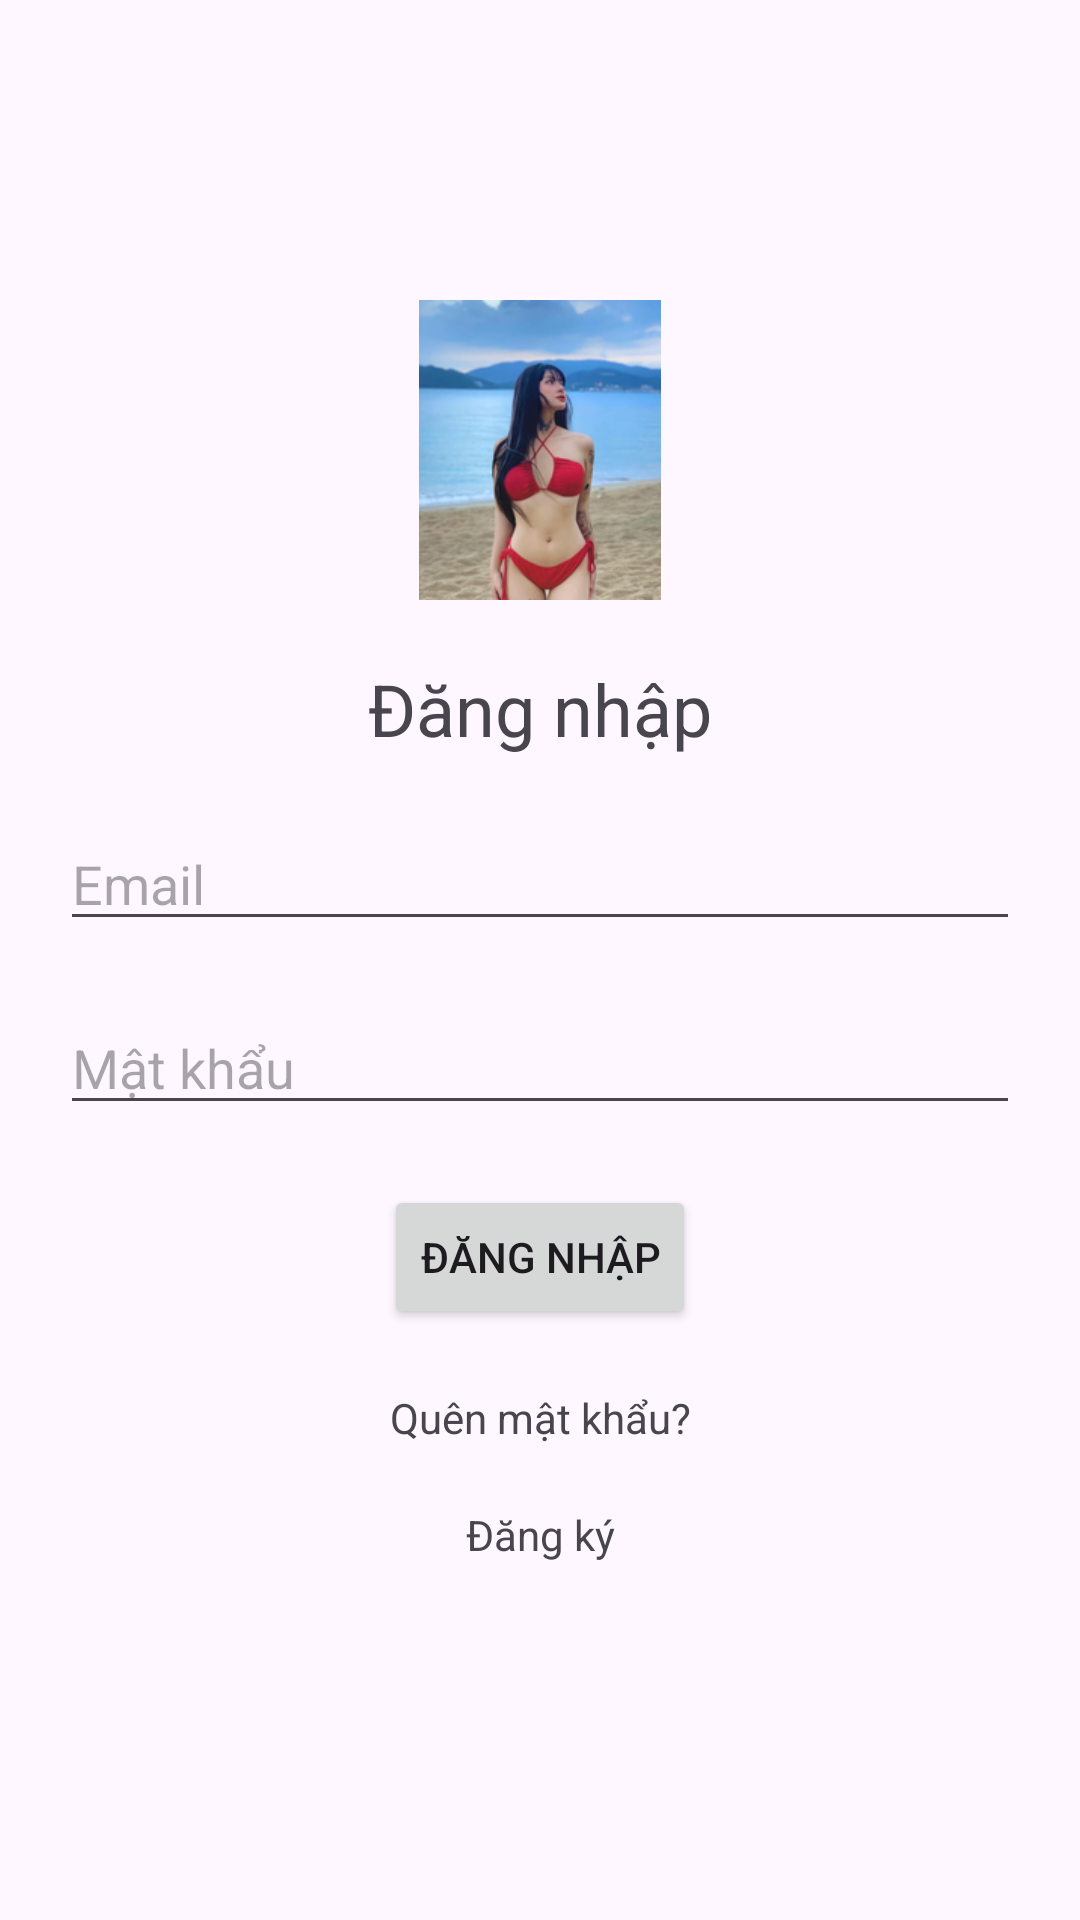

Named icons in this screenshot (1080×1920) and their bounding boxes, (x1, y1, x2, y2):
anhdep: (419, 300, 661, 600)
